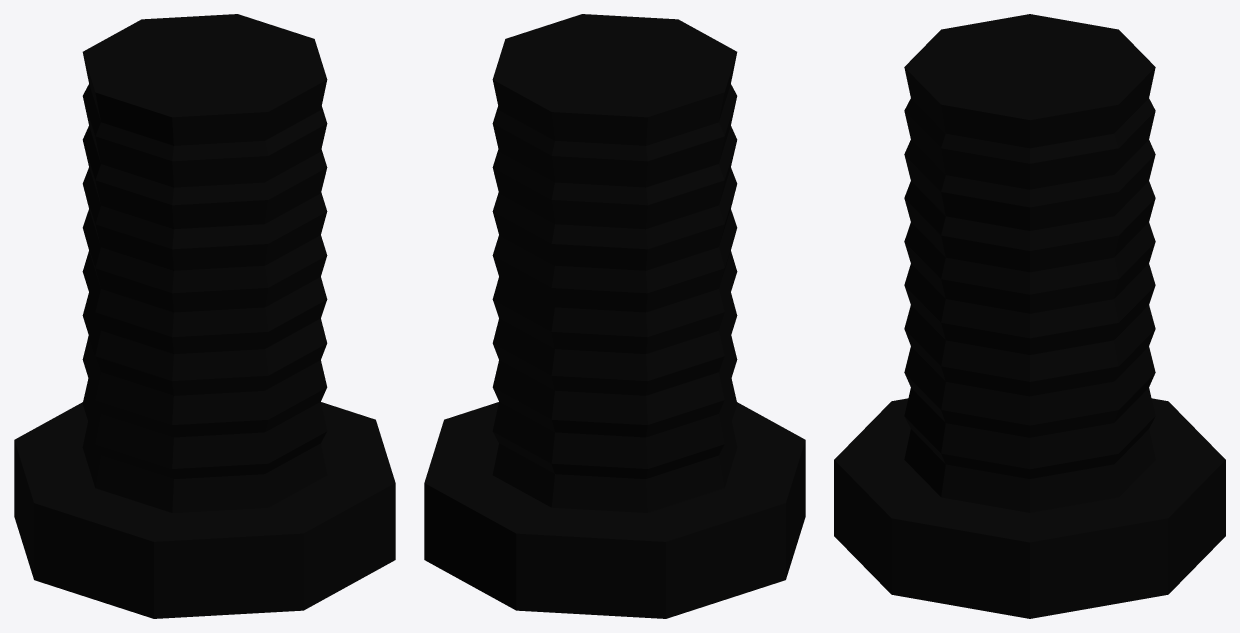
Rendered from Bolt.fbx.
3 views of the same model, side by side, from view 1: azimuth 30°, elevation 25°; view 2: azimuth 150°, elevation 25°; view 3: azimuth 270°, elevation 25° (orthographic).
Parts seen in each view (by area): view 1: Bake.004; view 2: Bake.004; view 3: Bake.004.
Part boxes in pixels (<box>): Bake.004: <box>14,14,395,618</box>; Bake.004: <box>424,14,805,618</box>; Bake.004: <box>834,14,1225,618</box>.
Bounding box in the file's own units: 166 × 220 × 166.
Materials: 2 (1 with a texture image).
